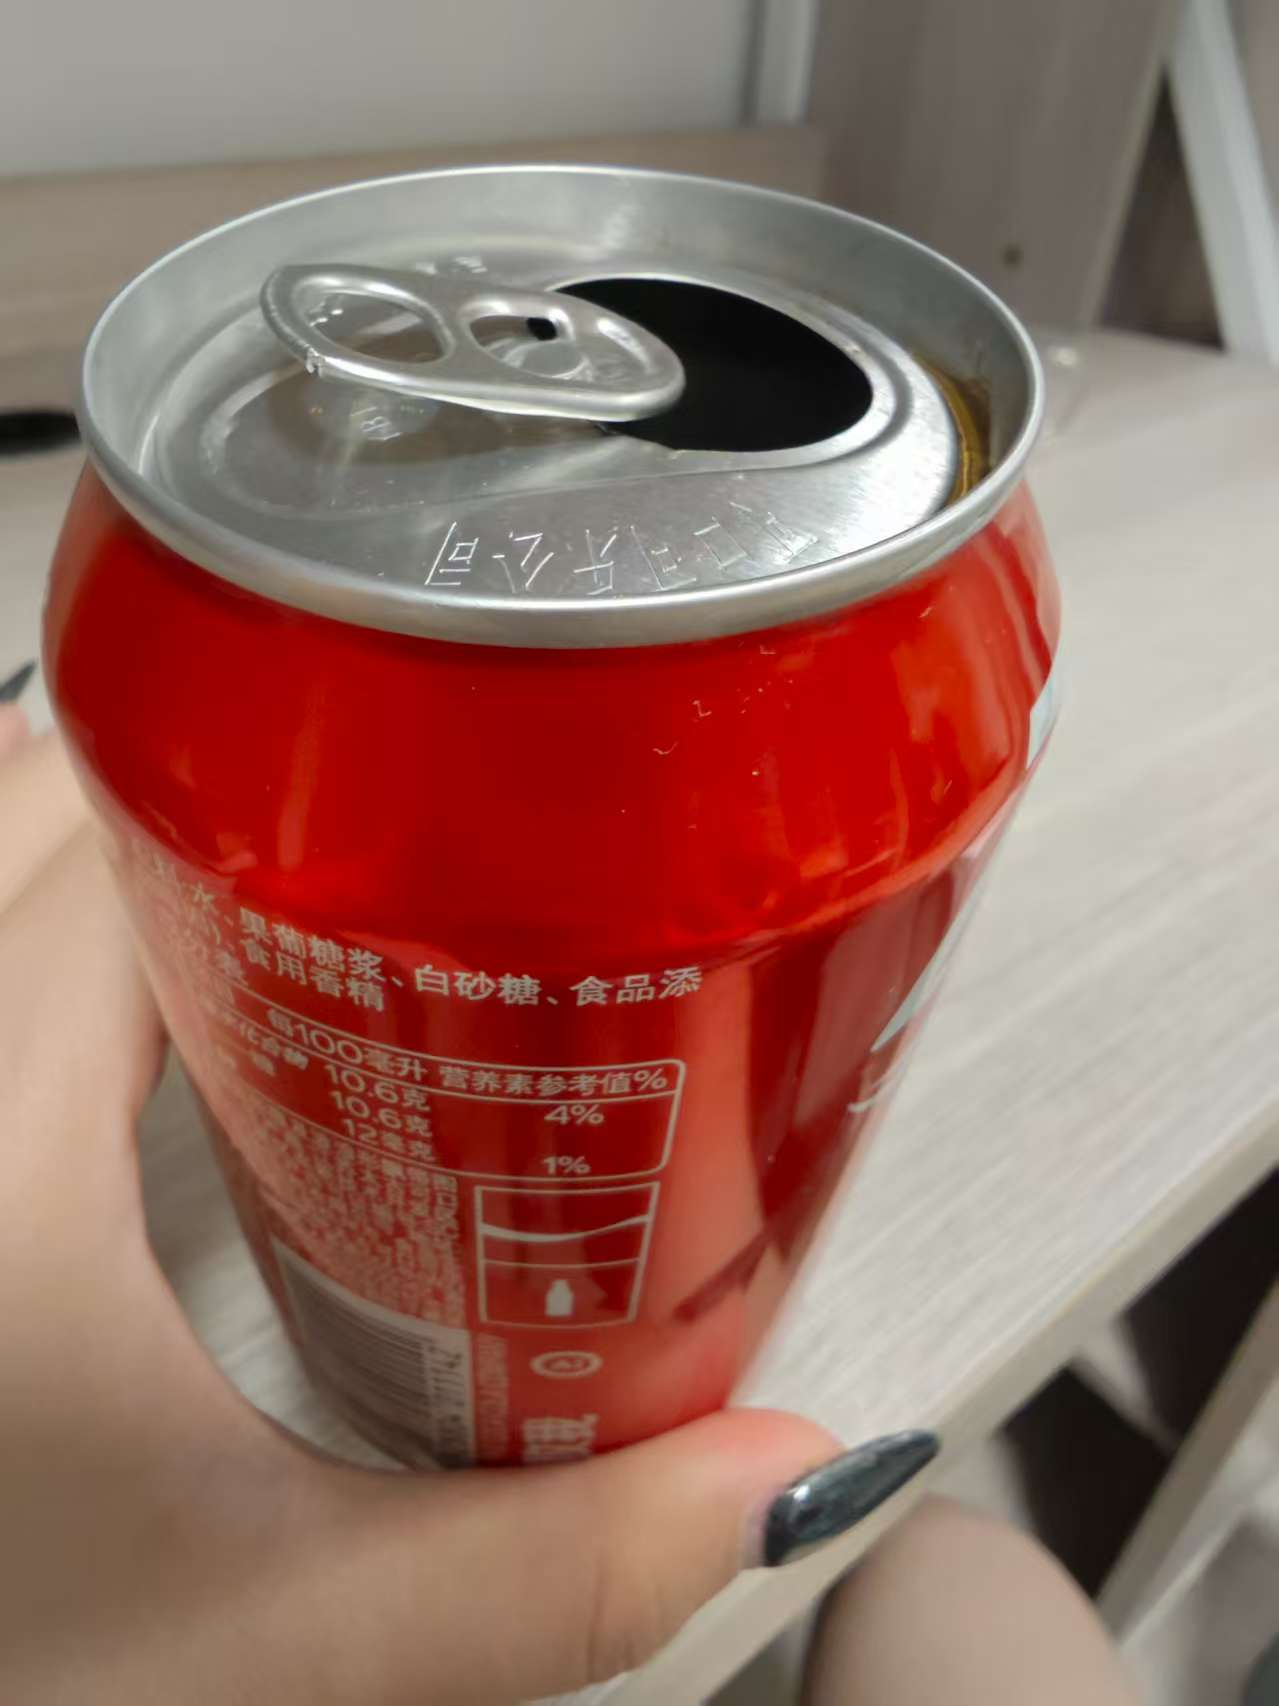可乐: (42, 167, 1108, 1495)
